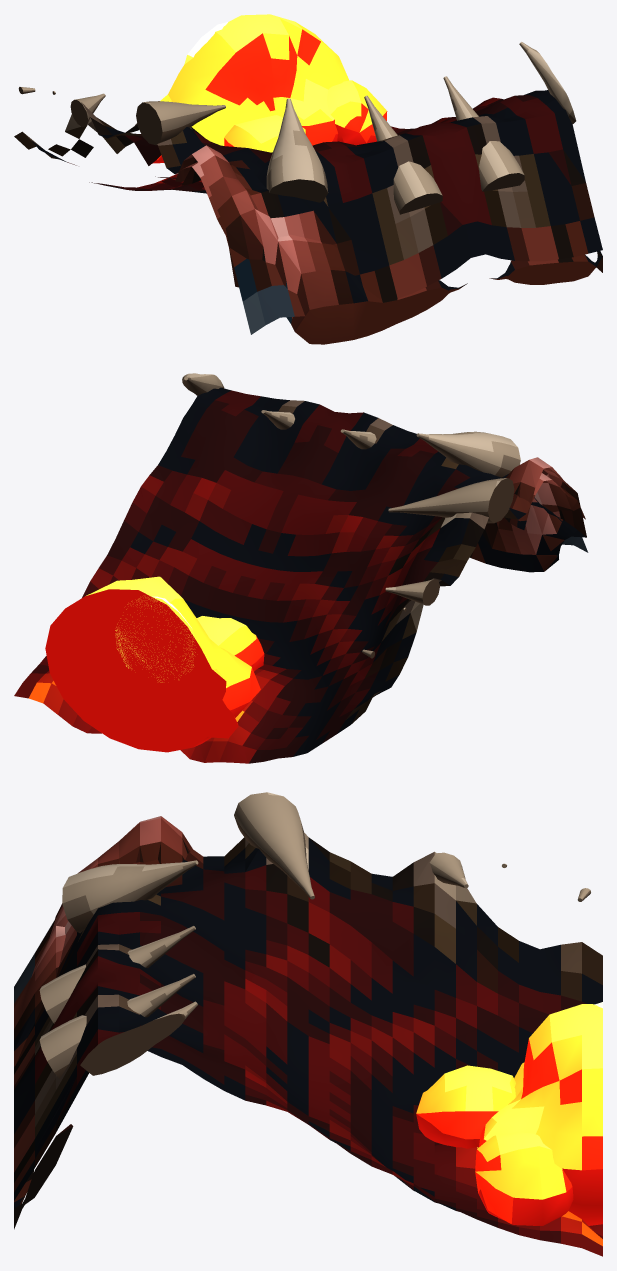
File: gyges_maw_279.glb
The picture shows the model from 3 angles, top to bottom: view 1: azimuth 30°, elevation 25°; view 2: azimuth 150°, elevation 25°; view 3: azimuth 270°, elevation 25°; orthographic projection. The views are drawn at different scales.
Parts seen in each view (by area): view 1: gyges_maw_279_body, gyges_maw_279_lips, gyges_maw_279_fireball, gyges_maw_279_tooth6, gyges_maw_279_fireball_flame1, gyges_maw_279_tooth7, gyges_maw_279_tooth5, gyges_maw_279_tooth7_m, gyges_maw_279_fireball_flame3, gyges_maw_279_tooth6_m, gyges_maw_279_tooth4; view 2: gyges_maw_279_body, gyges_maw_279_fireball, gyges_maw_279_lips, gyges_maw_279_tooth5, gyges_maw_279_tooth6, gyges_maw_279_fireball_flame0, gyges_maw_279_fireball_flame3, gyges_maw_279_tooth4, gyges_maw_279_tooth6_m, gyges_maw_279_fireball_core; view 3: gyges_maw_279_body, gyges_maw_279_fireball, gyges_maw_279_lips, gyges_maw_279_fireball_flame1, gyges_maw_279_fireball_flame3, gyges_maw_279_tooth6, gyges_maw_279_tooth5, gyges_maw_279_tooth6_m, gyges_maw_279_tooth7_m, gyges_maw_279_tooth7, gyges_maw_279_tooth4.
Part boxes in pixels (<box>): gyges_maw_279_body: <box>14,90,602,334</box>; gyges_maw_279_lips: <box>175,145,602,344</box>; gyges_maw_279_fireball: <box>168,14,349,145</box>; gyges_maw_279_tooth6: <box>266,98,328,202</box>; gyges_maw_279_fireball_flame1: <box>327,80,387,145</box>; gyges_maw_279_tooth7: <box>364,95,442,214</box>; gyges_maw_279_tooth5: <box>136,101,225,145</box>; gyges_maw_279_tooth7_m: <box>443,76,524,191</box>; gyges_maw_279_fireball_flame3: <box>224,115,307,152</box>; gyges_maw_279_tooth6_m: <box>519,42,576,124</box>; gyges_maw_279_tooth4: <box>70,93,105,127</box>; gyges_maw_279_body: <box>14,387,588,763</box>; gyges_maw_279_fireball: <box>45,576,260,752</box>; gyges_maw_279_lips: <box>469,457,586,572</box>; gyges_maw_279_tooth5: <box>388,478,514,523</box>; gyges_maw_279_tooth6: <box>416,431,520,477</box>; gyges_maw_279_fireball_flame0: <box>171,667,238,738</box>; gyges_maw_279_fireball_flame3: <box>196,616,264,671</box>; gyges_maw_279_tooth4: <box>385,579,439,605</box>; gyges_maw_279_tooth6_m: <box>182,373,224,395</box>; gyges_maw_279_fireball_core: <box>115,596,195,682</box>; gyges_maw_279_body: <box>14,832,602,1256</box>; gyges_maw_279_fireball: <box>479,1004,602,1225</box>; gyges_maw_279_lips: <box>14,816,192,1229</box>; gyges_maw_279_fireball_flame1: <box>475,1132,573,1225</box>; gyges_maw_279_fireball_flame3: <box>416,1065,515,1148</box>; gyges_maw_279_tooth6: <box>62,860,198,933</box>; gyges_maw_279_tooth5: <box>234,792,314,899</box>; gyges_maw_279_tooth6_m: <box>80,1001,197,1075</box>; gyges_maw_279_tooth7_m: <box>39,974,195,1078</box>; gyges_maw_279_tooth7: <box>39,926,195,1023</box>; gyges_maw_279_tooth4: <box>429,852,468,888</box>.
Bounding box in the file's own units: 23.98 × 14.77 × 27.98.
